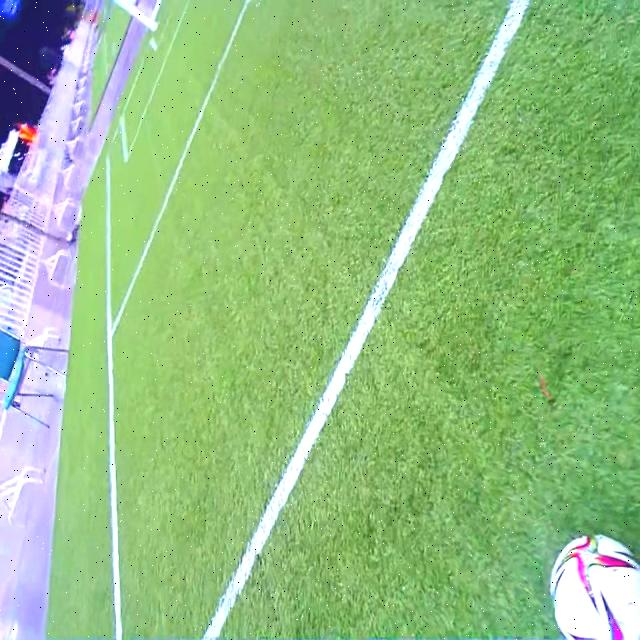ball: (548, 531, 640, 640)
